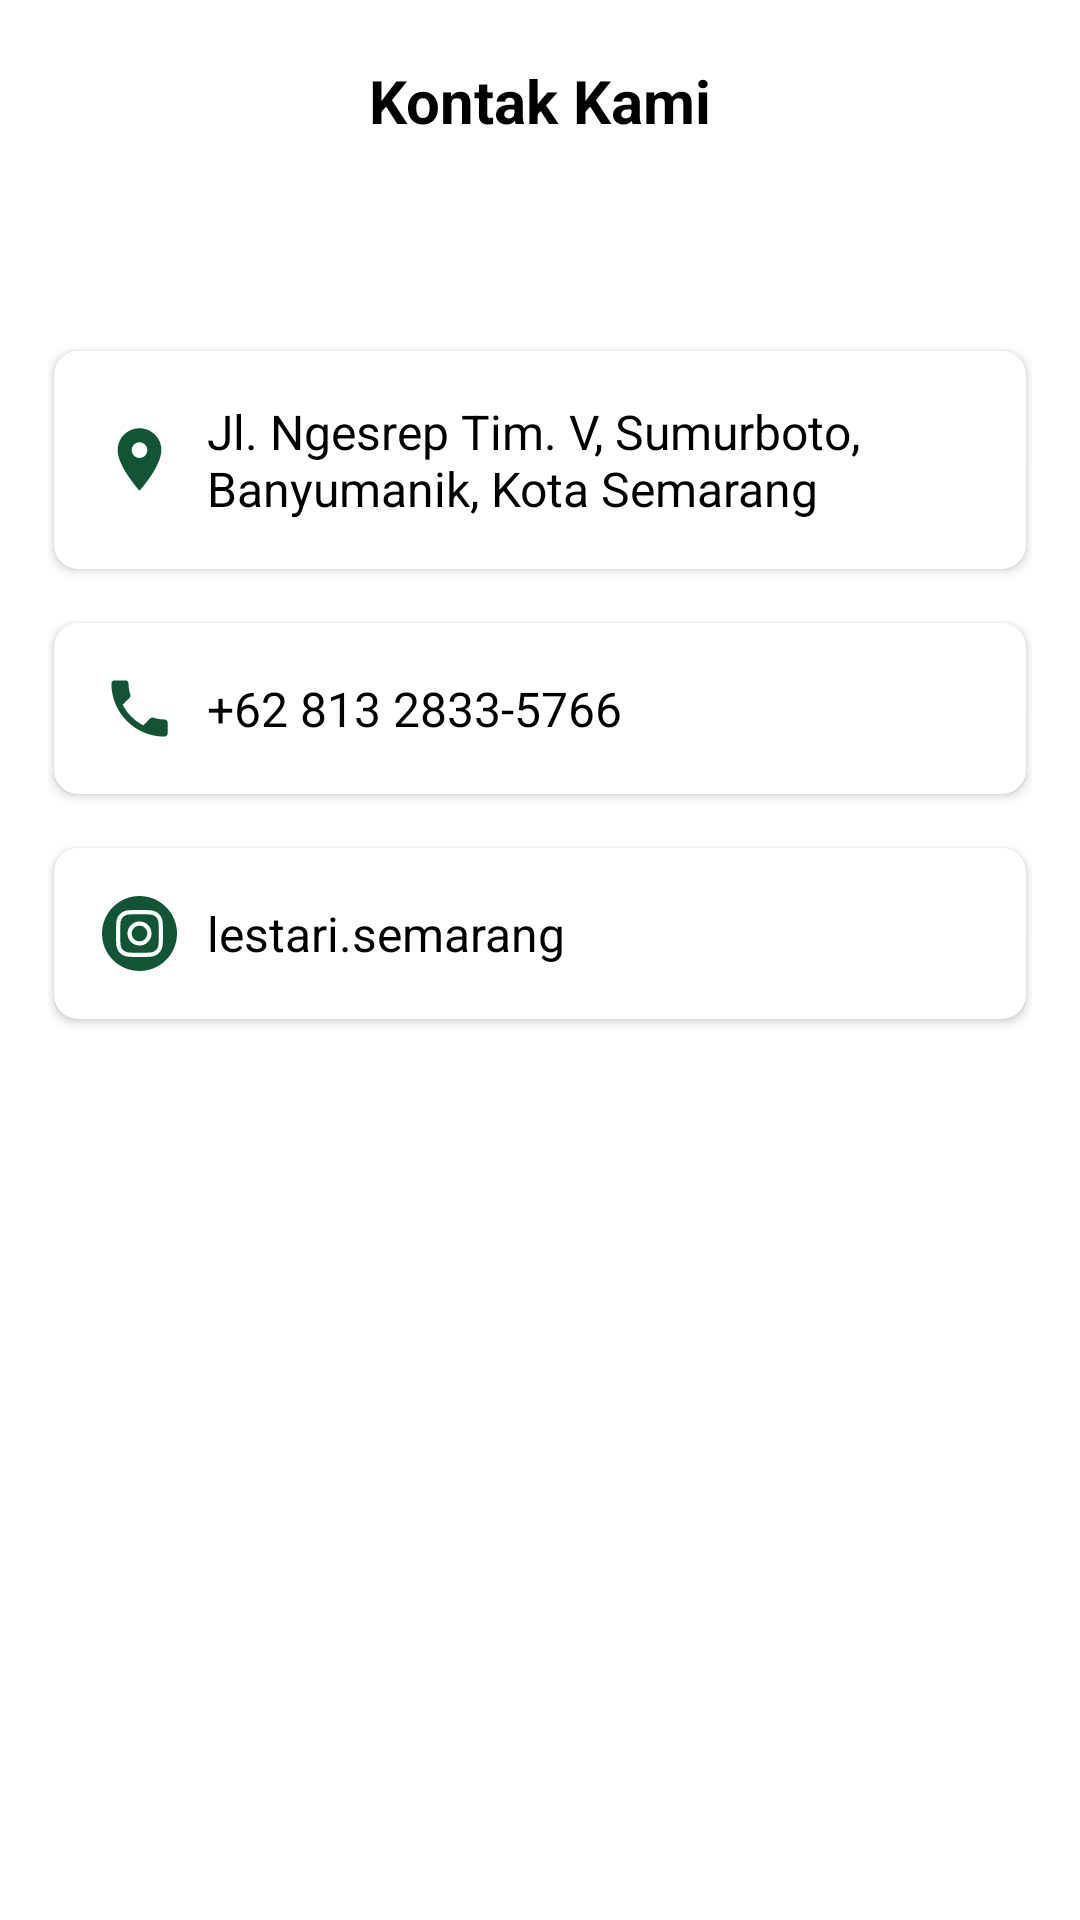

Icons on this 1080*1920 Android screen, each with its box as (x1, y1, x2, y2):
location: (117, 428, 162, 491)
phone: (111, 680, 168, 737)
